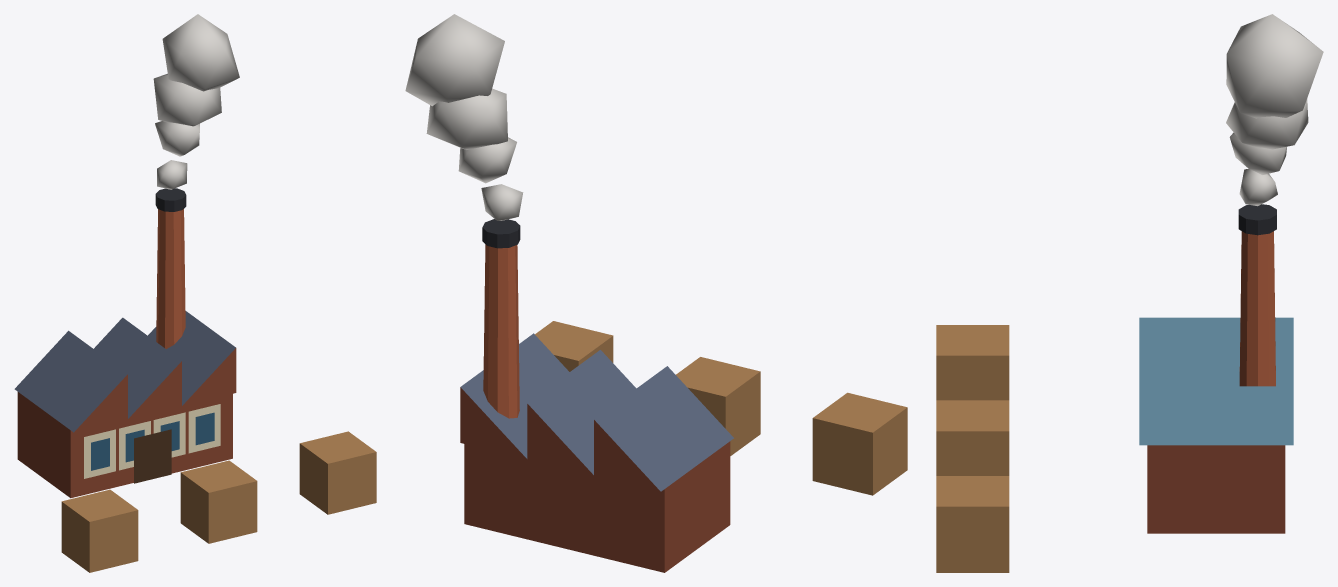
Rendered from building_workshop.fbx.
3 views of the same model, side by side, from view 1: azimuth 30°, elevation 25°; view 2: azimuth 150°, elevation 25°; view 3: azimuth 270°, elevation 25° (orthographic). The views are drawn at different scales.
Visible parts, largest first — view 1: building_workshop; view 2: building_workshop; view 3: building_workshop.
Part boxes in pixels (x1=…): building_workshop: x1=14, y1=14, x2=376, y2=572; building_workshop: x1=405, y1=14, x2=907, y2=572; building_workshop: x1=936, y1=14, x2=1323, y2=572.
Bounding box in the file's own units: 53 × 71.71 × 47.72.
